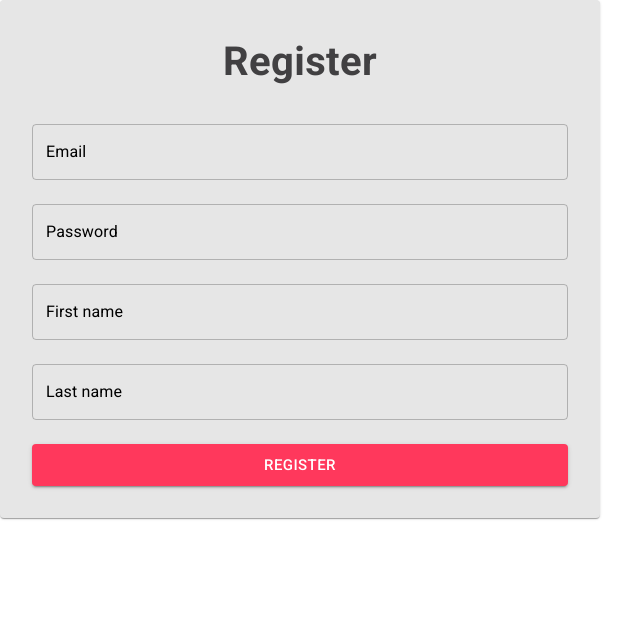
Test: Register form › Sets errors returned form the server
In the field labelled "Email": point(300, 152) [32,124,568,180], type "test@t.pl"
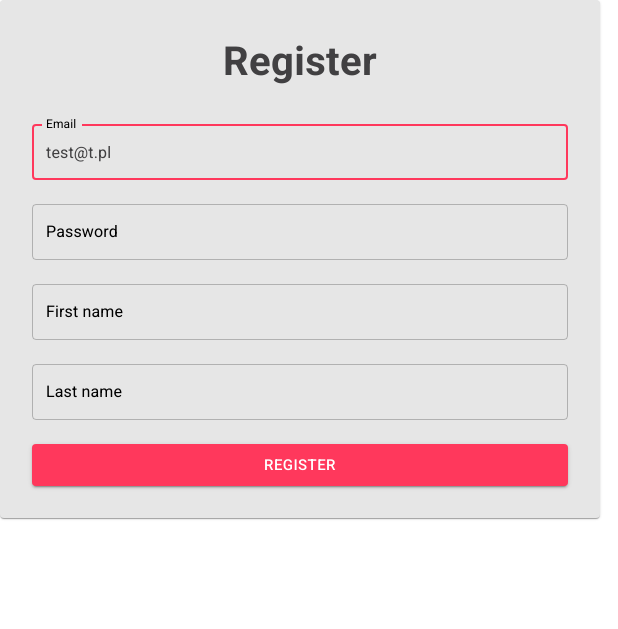
In the password field labelled "Password": point(300, 232) [32,204,568,260], type "password"
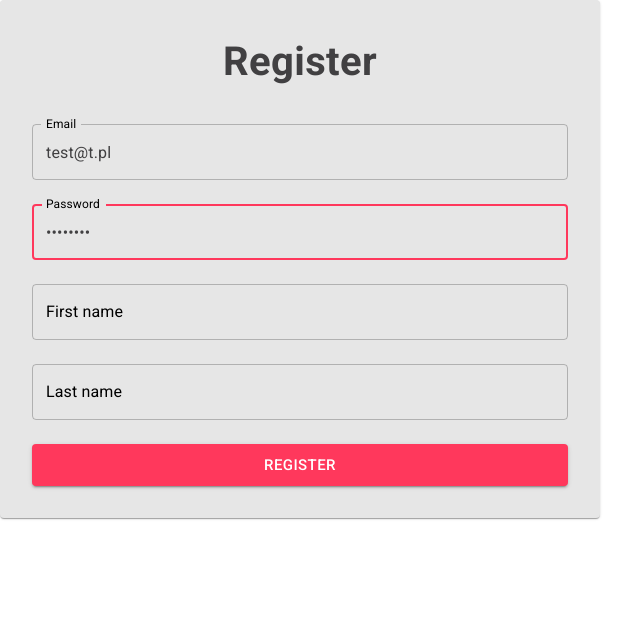
In the field labelled "First name": point(300, 312) [32,284,568,340], type "firstName"
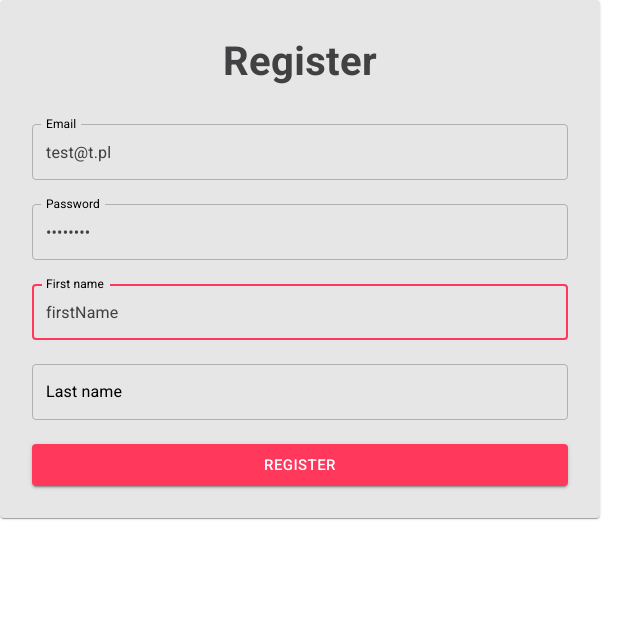
In the field labelled "Last name": point(300, 392) [32,364,568,420], type "lastName"
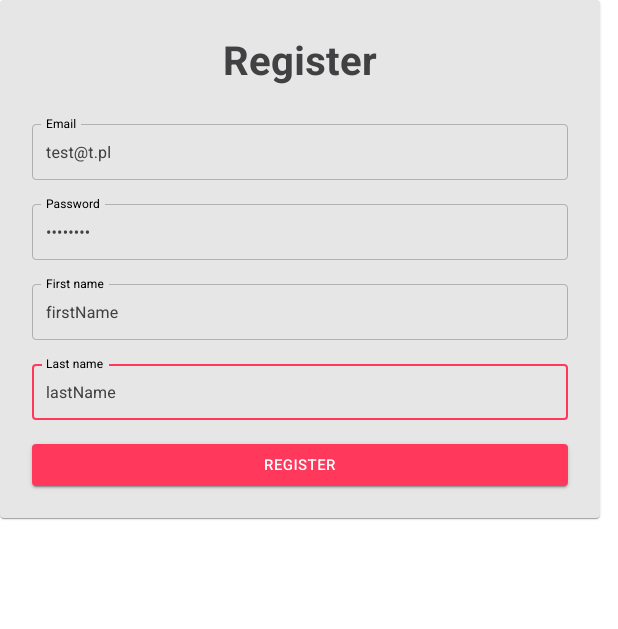
Click the button with test id "register-btn": point(300, 465) [32,444,568,486]
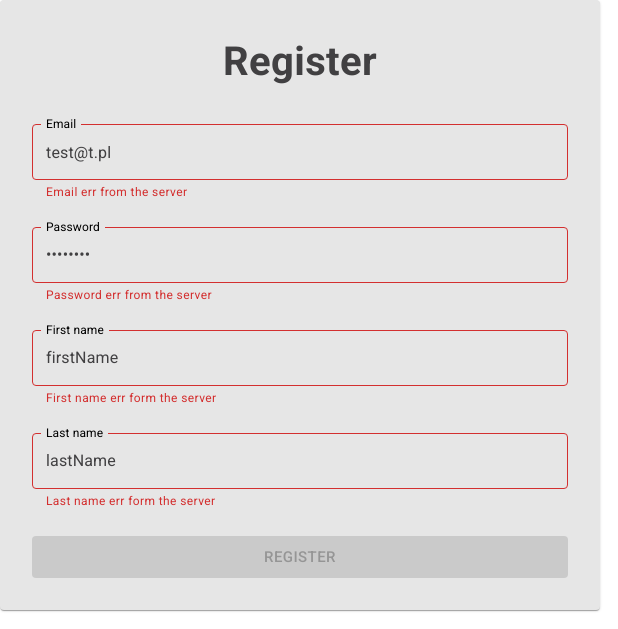
Check: the text "Email err from the server" is shown, box [46,185,187,199]
